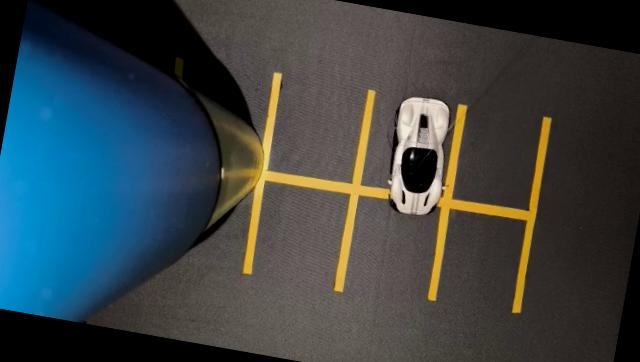toy_car: (356, 64, 480, 243)
